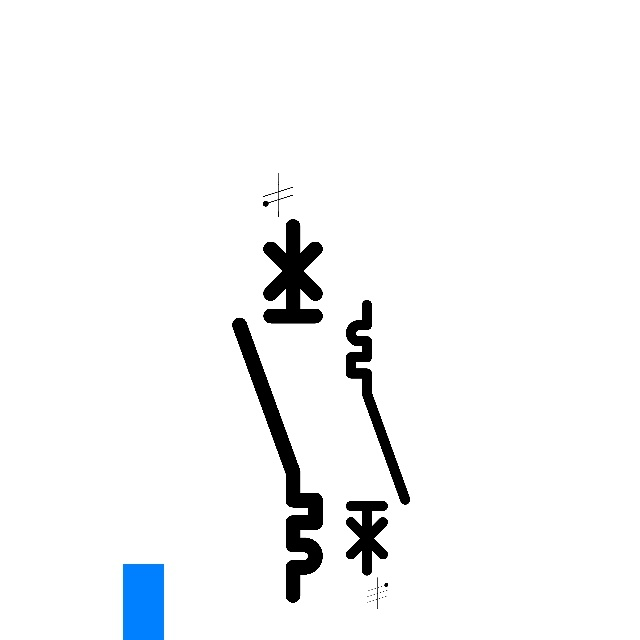interruptor_termomagnetico: (230, 216, 325, 604), (344, 298, 412, 578)
